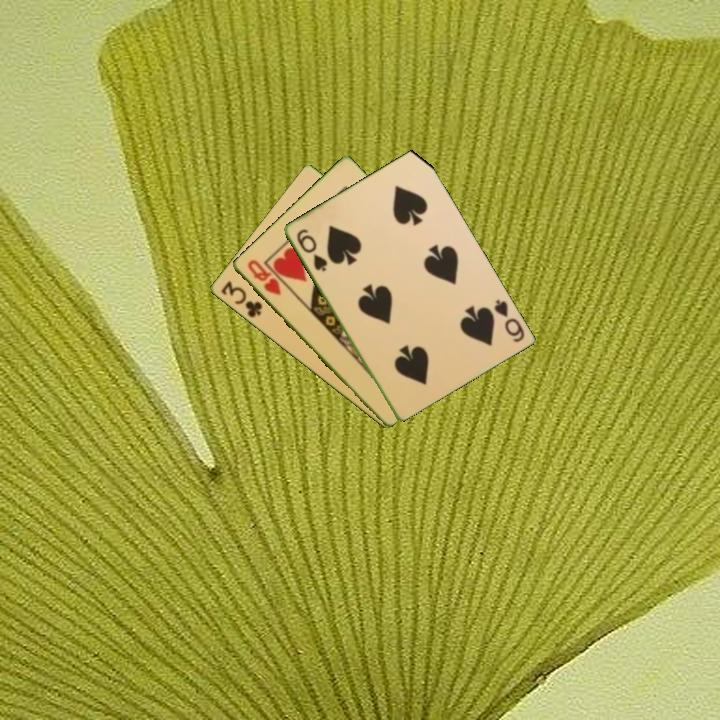3c: (217, 277, 265, 321)
6s: (490, 295, 527, 345), (293, 225, 330, 274)
Qh: (244, 256, 284, 298)
